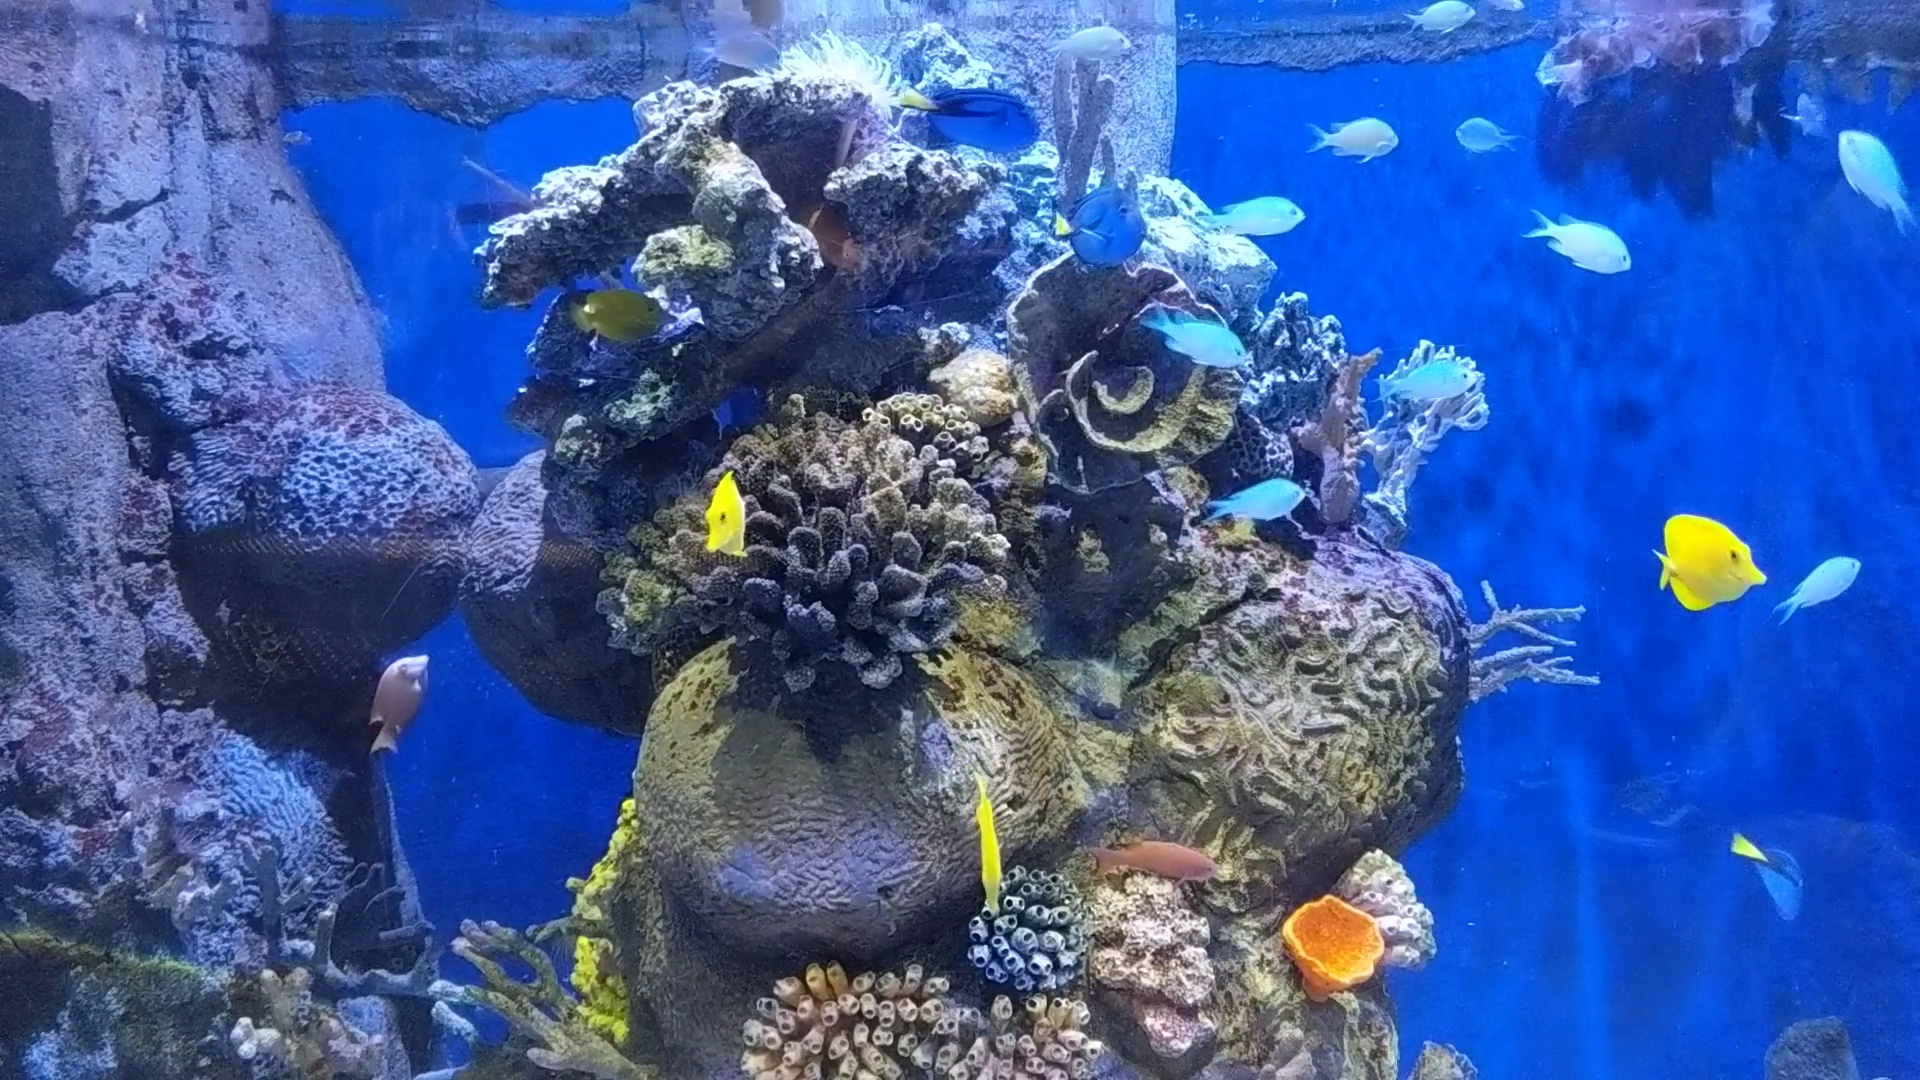blue tang surgeonfish: (898, 79, 1044, 153), (1044, 181, 1153, 274), (1735, 831, 1815, 944)
damselfish: (1834, 124, 1912, 235), (1528, 199, 1639, 277), (1139, 306, 1259, 368), (1298, 103, 1407, 170), (1778, 546, 1859, 636), (1191, 191, 1305, 248), (1204, 477, 1305, 534), (1371, 355, 1478, 407), (1040, 22, 1145, 66), (698, 32, 794, 76), (1407, 0, 1473, 45), (1449, 116, 1520, 156)
saddle butterfly fish: (1655, 512, 1768, 613), (564, 282, 687, 352), (971, 769, 1018, 924), (702, 469, 754, 563)
